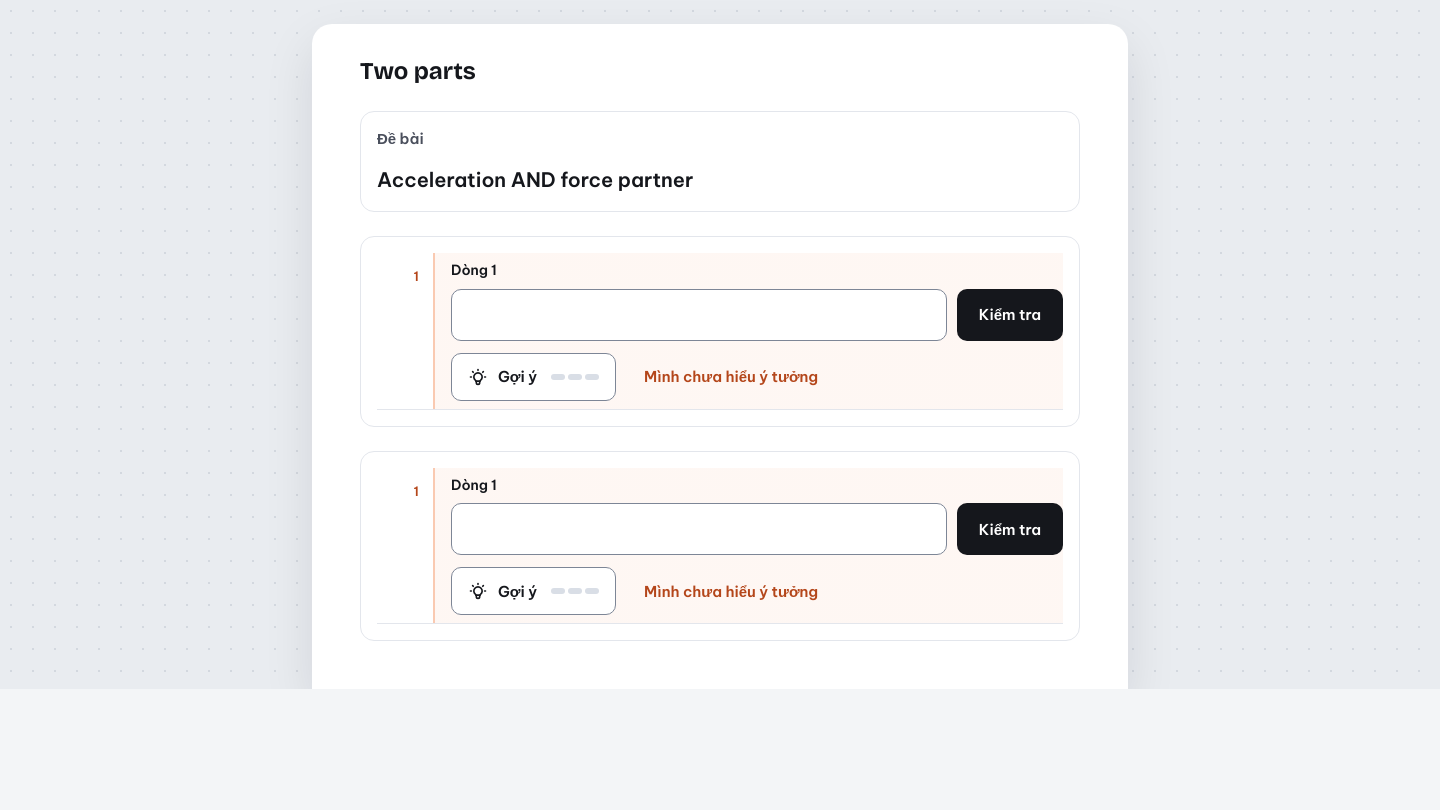
Test: completing part 1 leaves part 2 editable and reports completion only after both
Type "2" into the 1st field labelled "Dòng 1" at coordinates (699, 315), box 451,289 -> 947,341
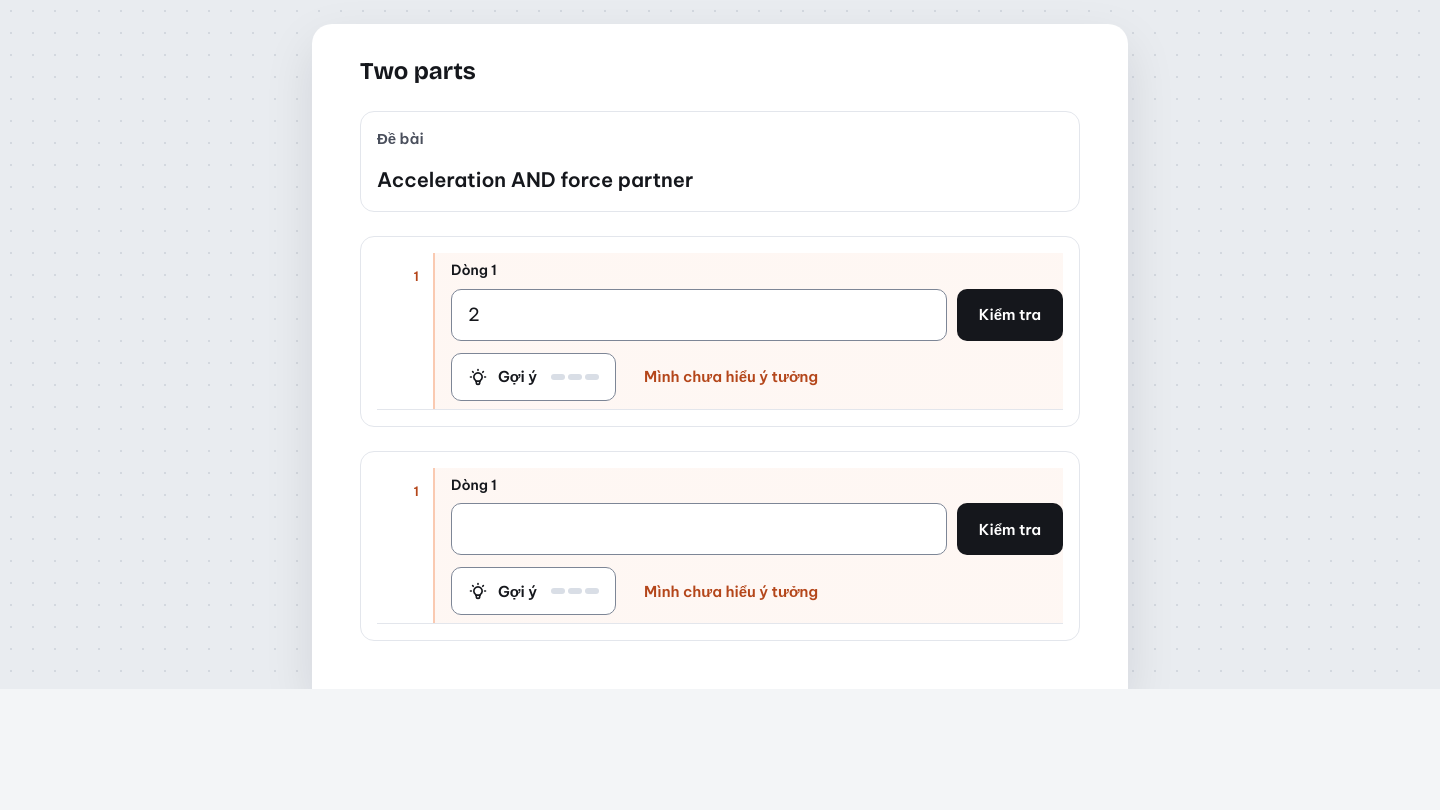
Click the 1st button "Kiểm tra" at coordinates (1010, 315), box 957,289 -> 1063,341
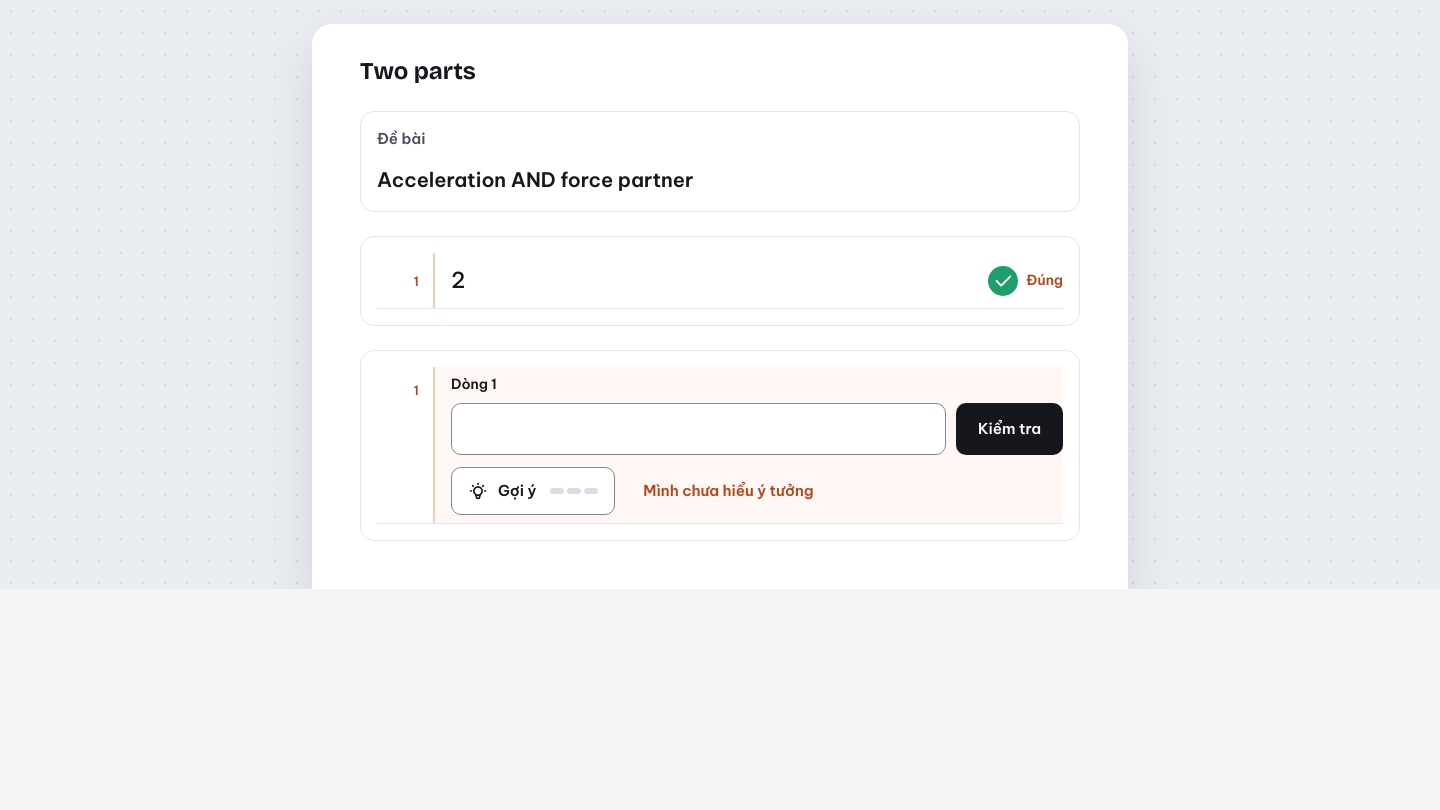
Check: the text "Xong bài" is not shown
Check: the text "Đúng" is shown once, box 988,266 -> 1063,296
Check: the number of fields is 1, box 451,403 -> 946,455
Click the button "Gợi ý" at coordinates (533, 491), box 451,467 -> 615,515
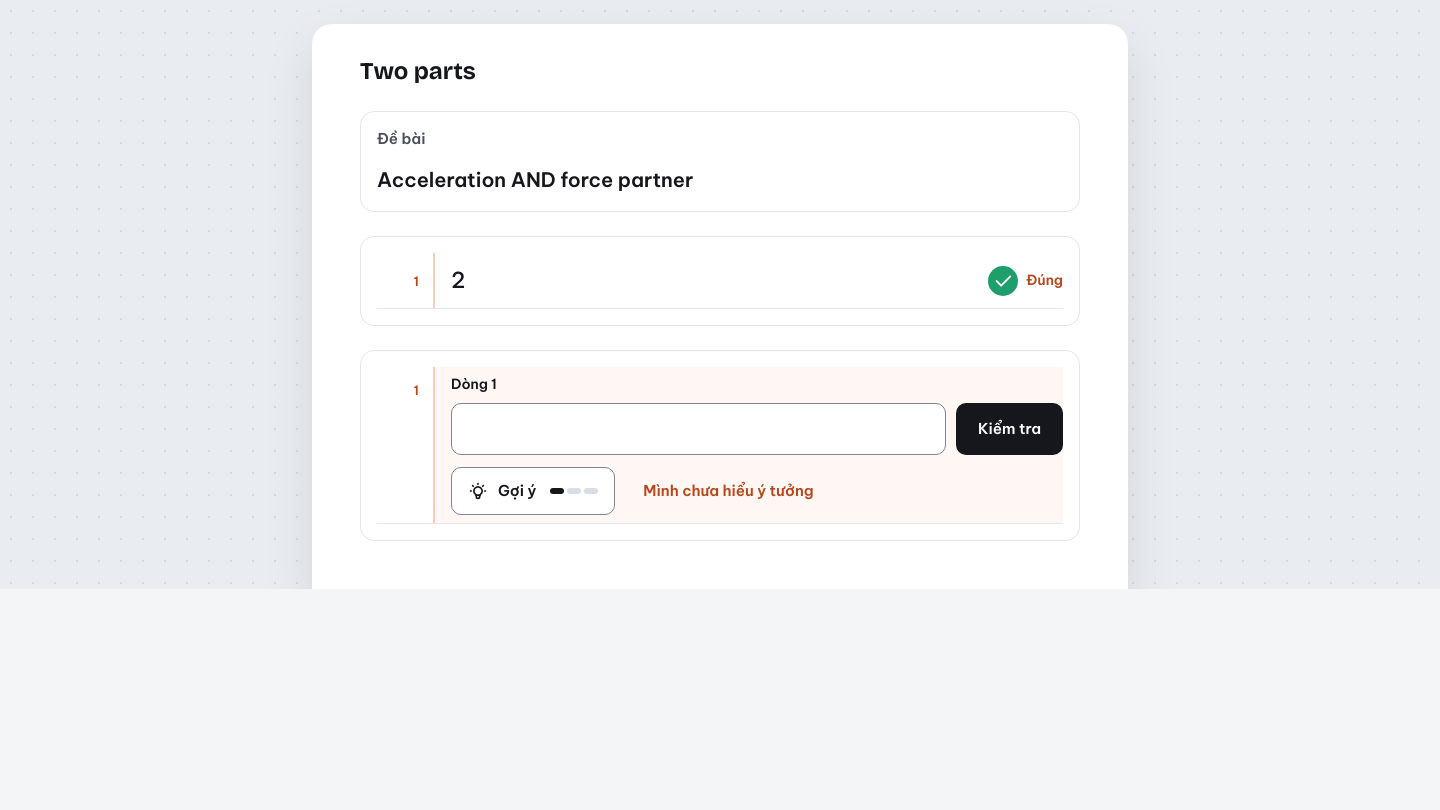
Type "2" into the field at coordinates (698, 429), box 451,403 -> 946,455
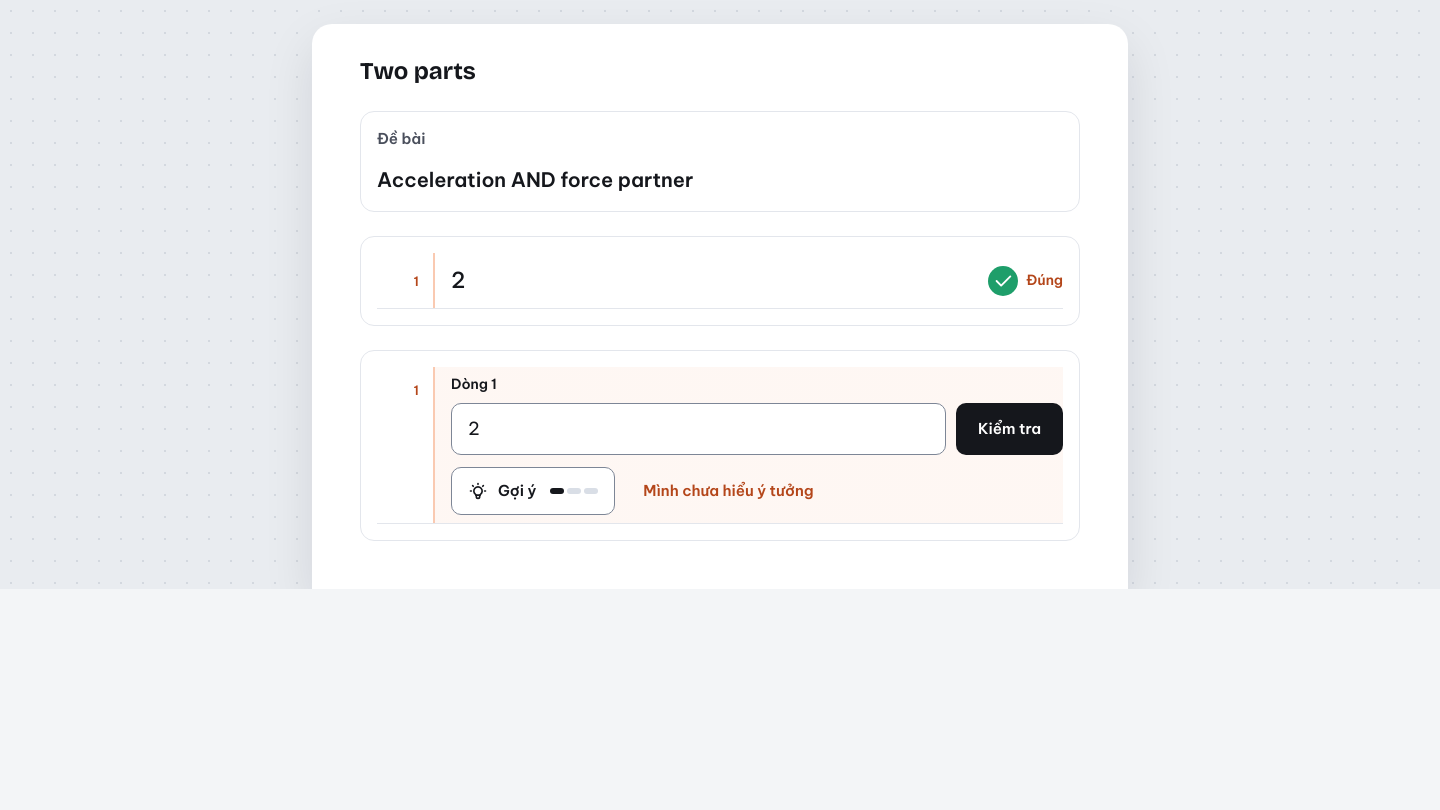
Click the button "Kiểm tra" at coordinates (1010, 429), box 956,403 -> 1063,455
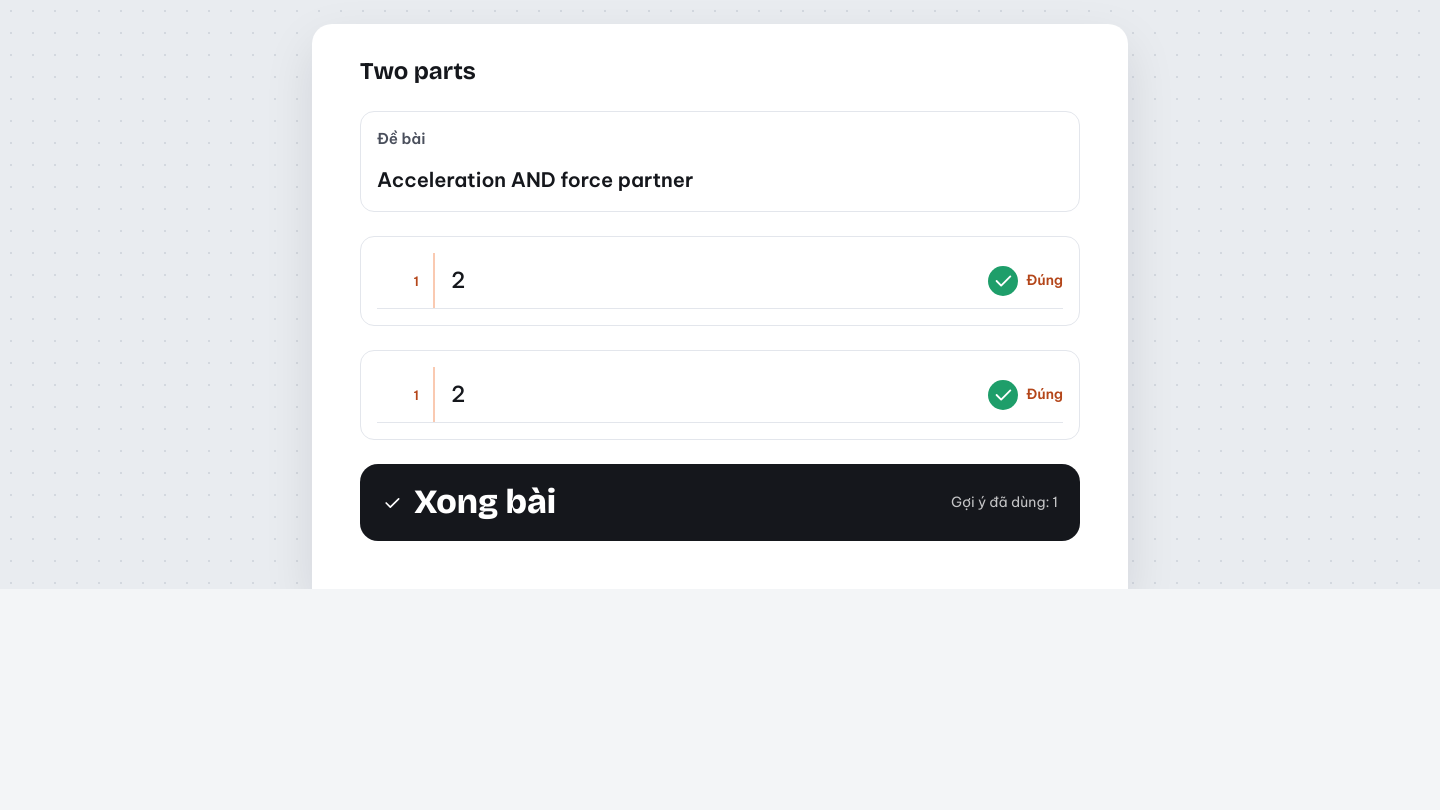
Check: the text "Đúng" is shown 2 times, box 988,266 -> 1063,296; 988,380 -> 1063,410
Check: the text "Xong bài" is shown, box 414,482 -> 556,523
Check: no fields are shown
